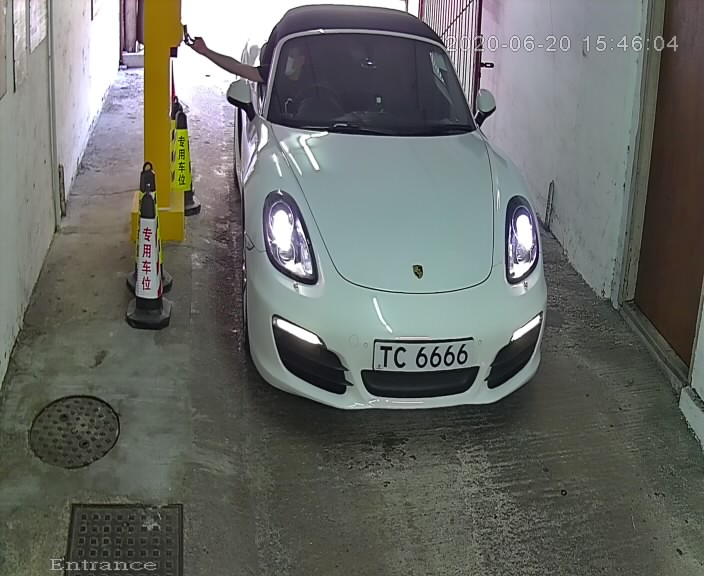privatecar: (218, 3, 556, 427)
